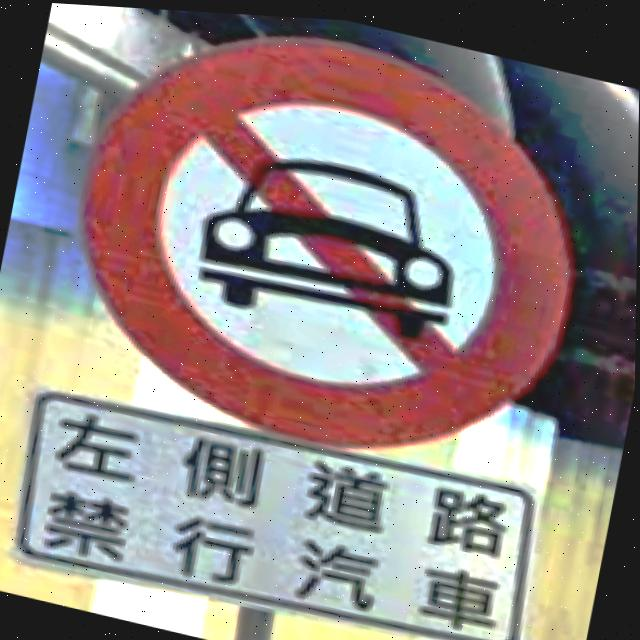nocar: (78, 36, 576, 451)
